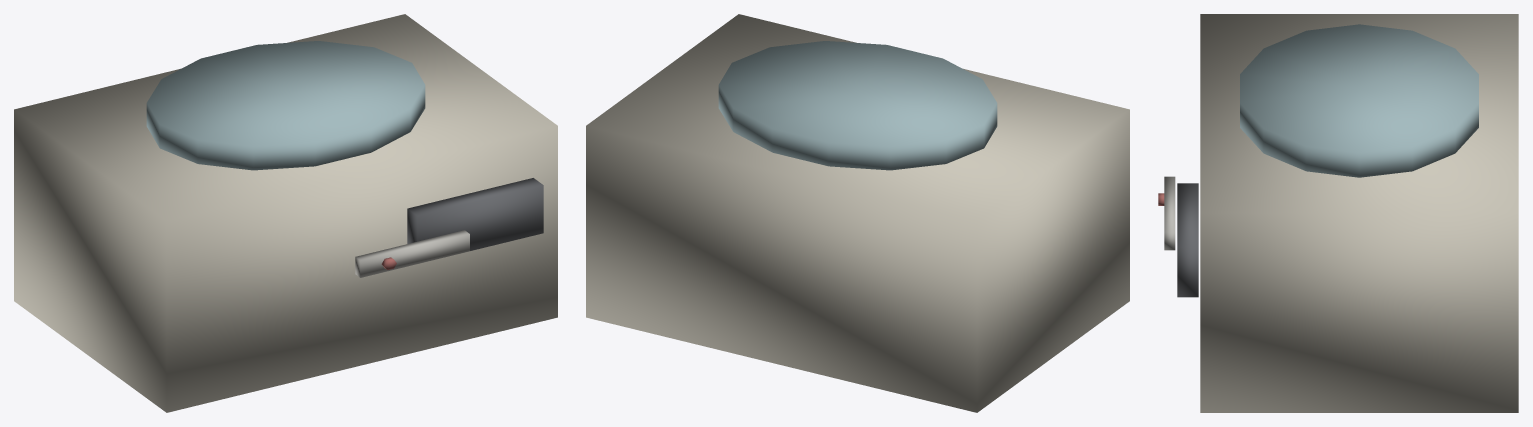
Rendered from centrifuge_bench_unit__wide.glb.
3 renders of one model, left to right at view 1: azimuth 30°, elevation 25°; view 2: azimuth 150°, elevation 25°; view 3: azimuth 270°, elevation 25°, orthographic. The views are drawn at different scales.
Visible parts, largest first — view 1: world; view 2: world; view 3: world.
Boxes of the visible parts, x1,y1,x2,y2 form: world: (14, 14, 557, 412); world: (586, 14, 1129, 412); world: (1158, 14, 1518, 412).
Bounding box in the file's own units: 0.7688 × 0.405 × 0.5885.
